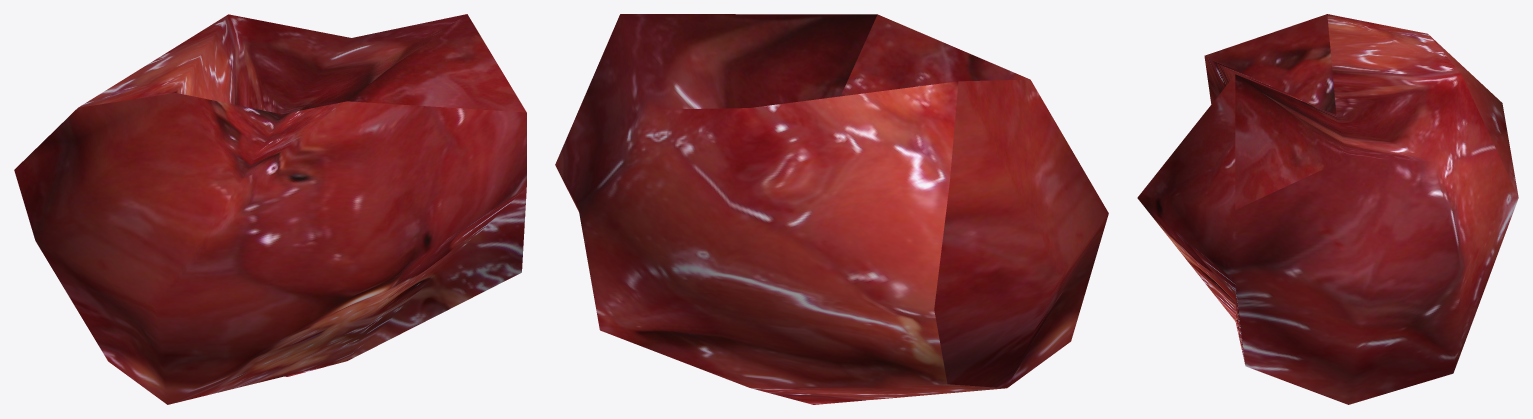
The model's file is gib_03.fbx.
The picture shows the model from 3 angles, left to right: view 1: azimuth 30°, elevation 25°; view 2: azimuth 150°, elevation 25°; view 3: azimuth 270°, elevation 25°; orthographic projection. The views are drawn at different scales.
Parts seen in each view (by area): view 1: meaty_gib; view 2: meaty_gib; view 3: meaty_gib.
Boxes of the visible parts, x1,y1,x2,y2 form: meaty_gib: (14,14,526,404); meaty_gib: (555,14,1108,404); meaty_gib: (1137,14,1518,404).
Size of the model in its own units: 0.183 by 0.119 by 0.1341.
